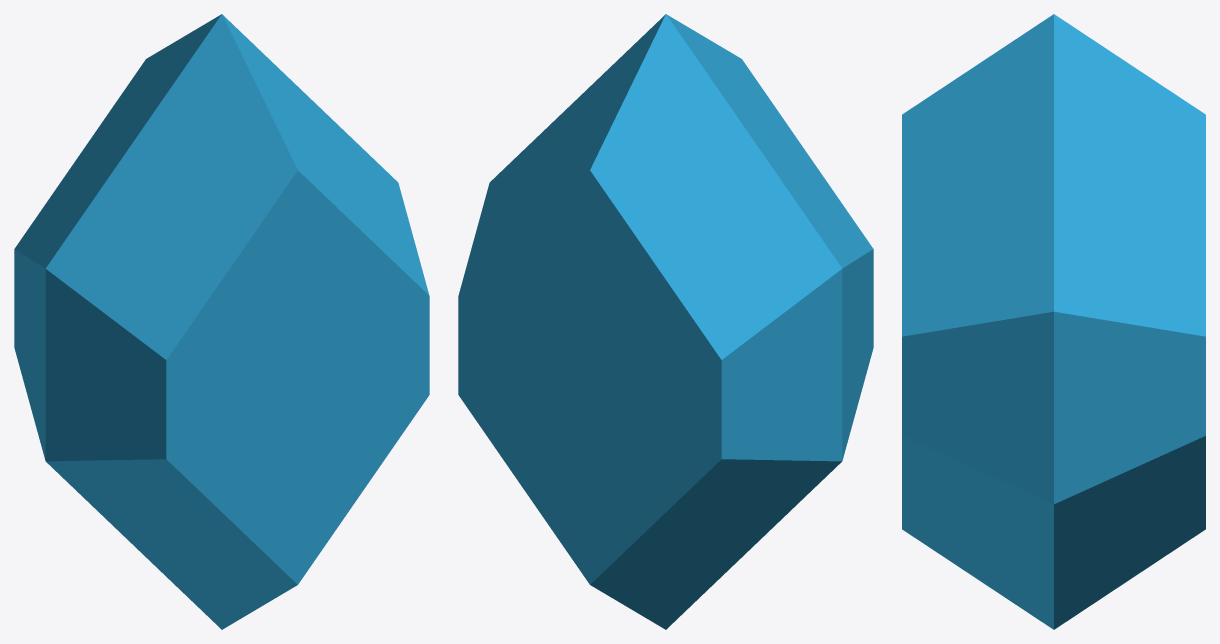
File: Crystal 1.fbx
3 views of the same model, side by side, from view 1: azimuth 30°, elevation 25°; view 2: azimuth 150°, elevation 25°; view 3: azimuth 270°, elevation 25° (orthographic).
Parts seen in each view (by area): view 1: Cube; view 2: Cube; view 3: Cube.
Boxes of the visible parts, box(x1,y1,x2,y2) form: Cube: box(14, 14, 429, 629); Cube: box(458, 14, 873, 629); Cube: box(902, 14, 1205, 629).
Size of the model in its own units: 317 by 529 by 236.
Materials: 1 (1 with a texture image).
